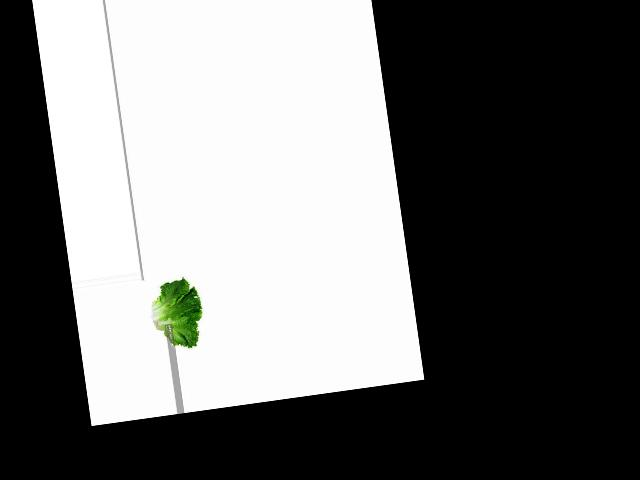lettuce: (146, 276, 205, 349)
